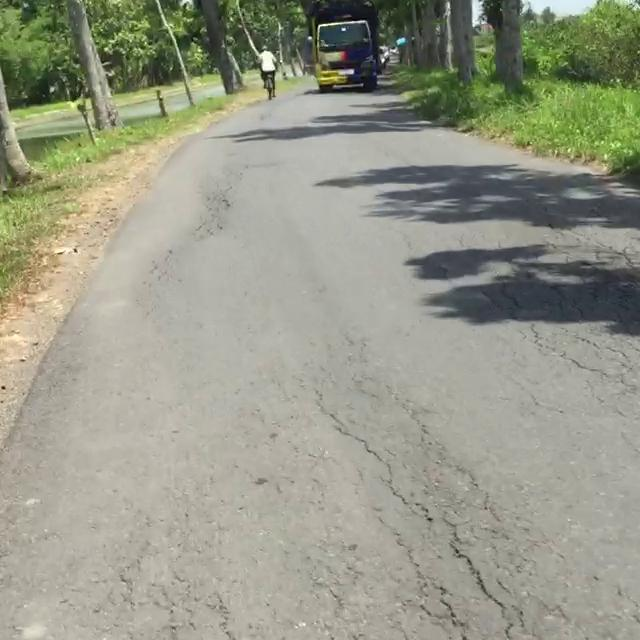retak_kulit_buaya: (297, 391, 554, 640), (495, 198, 640, 462), (111, 565, 255, 640)
